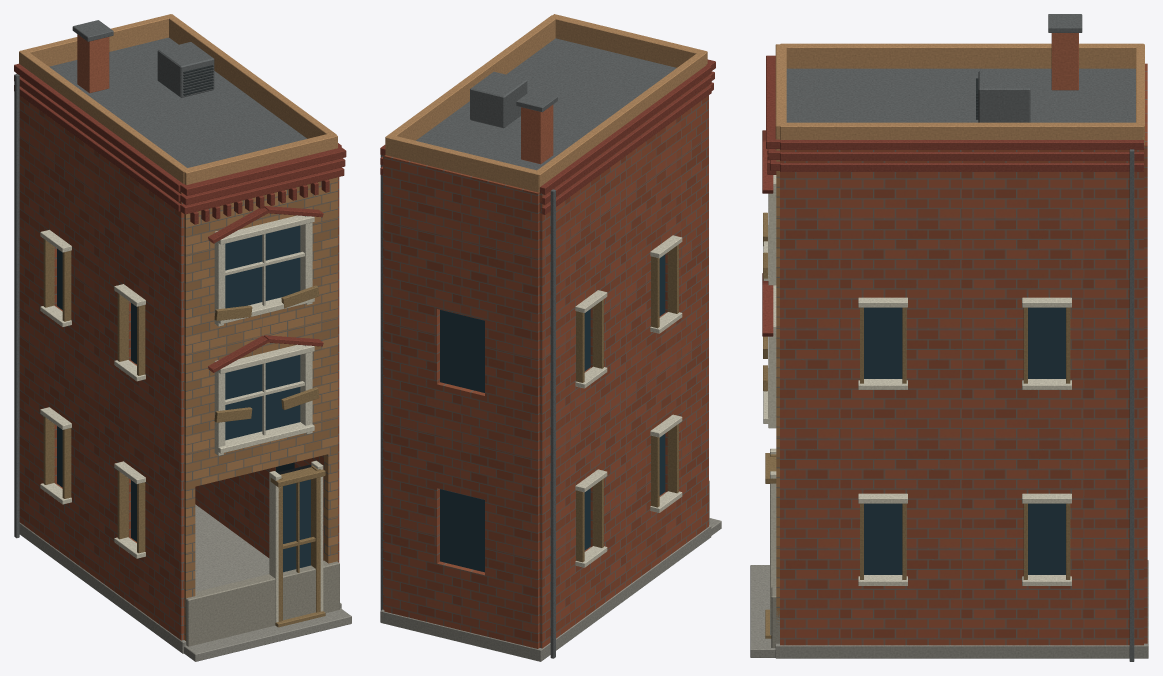
Rendered from VICT1B_lod1.glb.
The picture shows the model from 3 angles, left to right: view 1: azimuth 30°, elevation 25°; view 2: azimuth 150°, elevation 25°; view 3: azimuth 270°, elevation 25°; orthographic projection. The views are drawn at different scales.
Parts seen in each view (by area): view 1: VICT1B_LOD1; view 2: VICT1B_LOD1; view 3: VICT1B_LOD1.
Boxes of the visible parts, box(x1,y1,x2,y2) form: VICT1B_LOD1: box(14, 14, 351, 661); VICT1B_LOD1: box(380, 14, 721, 661); VICT1B_LOD1: box(750, 14, 1148, 661).
Size of the model in its own units: 3.71 by 10.45 by 6.57.
13 materials, 11 textured.
